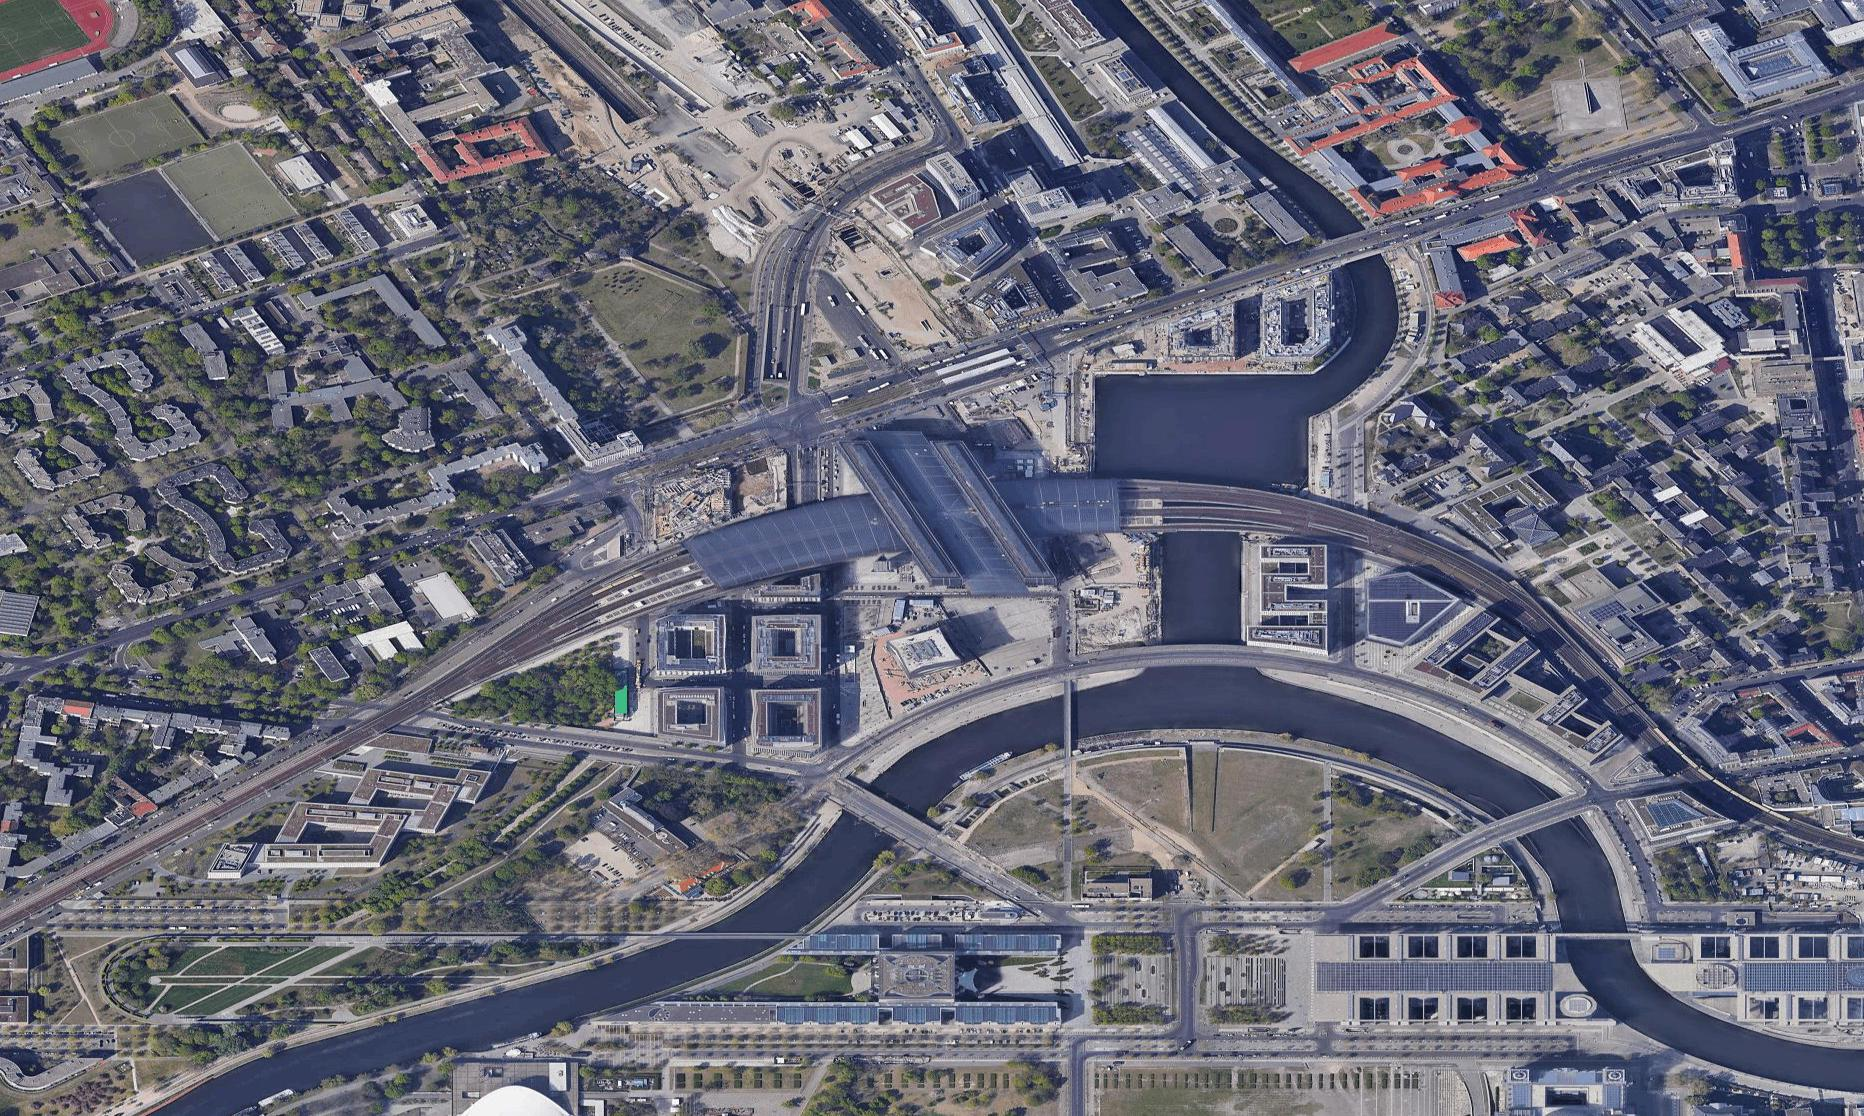bridge: (833, 781, 933, 844), (1485, 780, 1584, 842), (1315, 225, 1388, 268), (675, 925, 797, 943), (1537, 922, 1641, 942), (1054, 682, 1081, 741)
industrial: (893, 12, 1204, 209)
train_station: (686, 434, 1159, 623)
